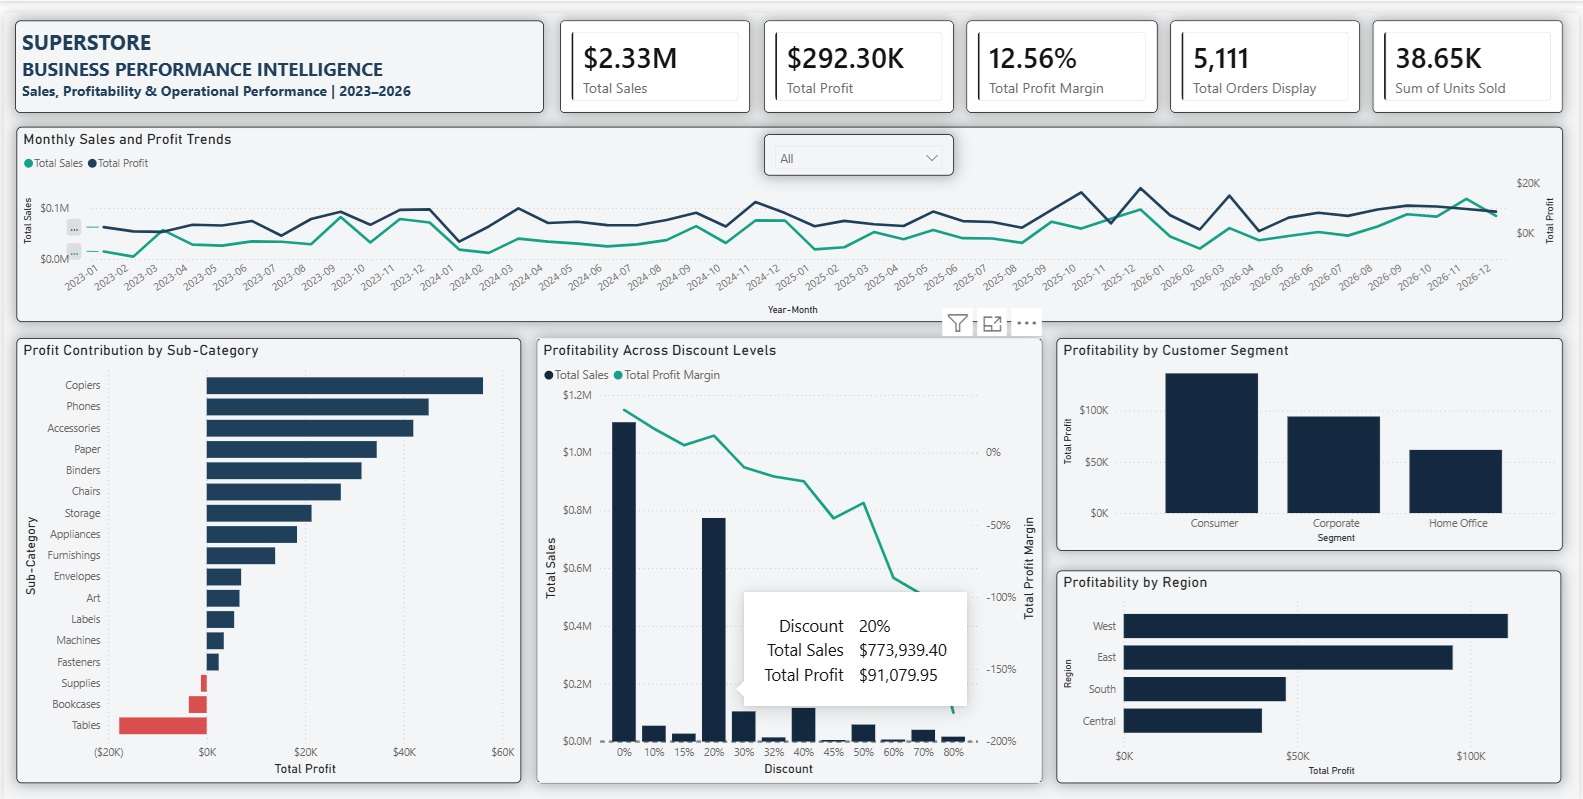

Layout of this report page (visuals, bound fields, positions):
{"tool":"powerbi","page":{"name":"Dashboard","canvas":[1800,900],"ordinal":0},"visuals":[{"type":"cardVisual","fields":{"Data":["Cleaned_Data.Total Sales"]},"box":[635.7,8.6,217.1,105.7],"z":0},{"type":"cardVisual","fields":{"Data":["Cleaned_Data.Total Profit"]},"box":[868.6,8.6,217.1,105.7],"z":1000},{"type":"cardVisual","fields":{"Data":["Cleaned_Data.Total Profit Margin"]},"box":[1100,8.6,218.6,105.7],"z":2000},{"type":"cardVisual","fields":{"Data":["Cleaned_Data.Total Orders Display"]},"box":[1332.9,8.6,217.1,105.7],"z":3000},{"type":"cardVisual","title":"UNIT SOLD","fields":{"Data":["Sum(Cleaned_Data.Quantity)"]},"box":[1564.3,8.6,217.1,105.7],"z":4000},{"type":"lineChart","title":"Monthly Sales and Profit Trends","fields":{"Y":["Cleaned_Data.Total Sales"],"Category":["Calendar.Year-Month"],"Y2":["Cleaned_Data.Total Profit"]},"box":[14.3,130,1767.1,222.9],"z":5000},{"type":"clusteredBarChart","title":"Profit Contribution by Sub-Category","fields":{"Y":["Cleaned_Data.Total Profit"],"Category":["Cleaned_Data.Sub-Category"]},"box":[14.3,371.4,577.1,508.6],"z":6000},{"type":"lineClusteredColumnComboChart","title":"Profitability Across Discount Levels","fields":{"Category":["Cleaned_Data.Discount"],"Y2":["Cleaned_Data.Total Profit Margin"],"Y":["Cleaned_Data.Total Sales"]},"box":[608.6,371.4,578.6,508.6],"z":7000},{"type":"clusteredColumnChart","title":"Profitability by Customer Segment","fields":{"Category":["Cleaned_Data.Segment"],"Y":["Cleaned_Data.Total Profit"]},"box":[1202.9,371.4,578.6,242.9],"z":8000},{"type":"clusteredBarChart","title":"Profitability by Region","fields":{"Category":["Cleaned_Data.Region"],"Y":["Cleaned_Data.Total Profit"]},"box":[1202.9,637.1,577.1,242.9],"z":9000},{"type":"textbox","box":[12.9,8.6,604.3,105.7],"z":10000},{"type":"slicer","fields":{"Values":["Calendar.Year"]},"box":[868.6,138.6,217.1,47.1],"z":12500}]}

Visuals, with their boxes in screenshot pixels (x1, y1, x2, y2), scaled from the page's 1800x900 canvas onto the 1583x799 screenshot:
cardVisual - Cleaned_Data.Total Sales: [x1=559, y1=8, x2=750, y2=101]
cardVisual - Cleaned_Data.Total Profit: [x1=764, y1=8, x2=955, y2=101]
cardVisual - Cleaned_Data.Total Profit Margin: [x1=967, y1=8, x2=1160, y2=101]
cardVisual - Cleaned_Data.Total Orders Display: [x1=1172, y1=8, x2=1363, y2=101]
"UNIT SOLD" cardVisual: [x1=1376, y1=8, x2=1567, y2=101]
"Monthly Sales and Profit Trends" lineChart: [x1=13, y1=115, x2=1567, y2=313]
"Profit Contribution by Sub-Category" clusteredBarChart: [x1=13, y1=330, x2=520, y2=781]
"Profitability Across Discount Levels" lineClusteredColumnComboChart: [x1=535, y1=330, x2=1044, y2=781]
"Profitability by Customer Segment" clusteredColumnChart: [x1=1058, y1=330, x2=1567, y2=545]
"Profitability by Region" clusteredBarChart: [x1=1058, y1=566, x2=1565, y2=781]
textbox: [x1=11, y1=8, x2=543, y2=101]
slicer - Calendar.Year: [x1=764, y1=123, x2=955, y2=165]
